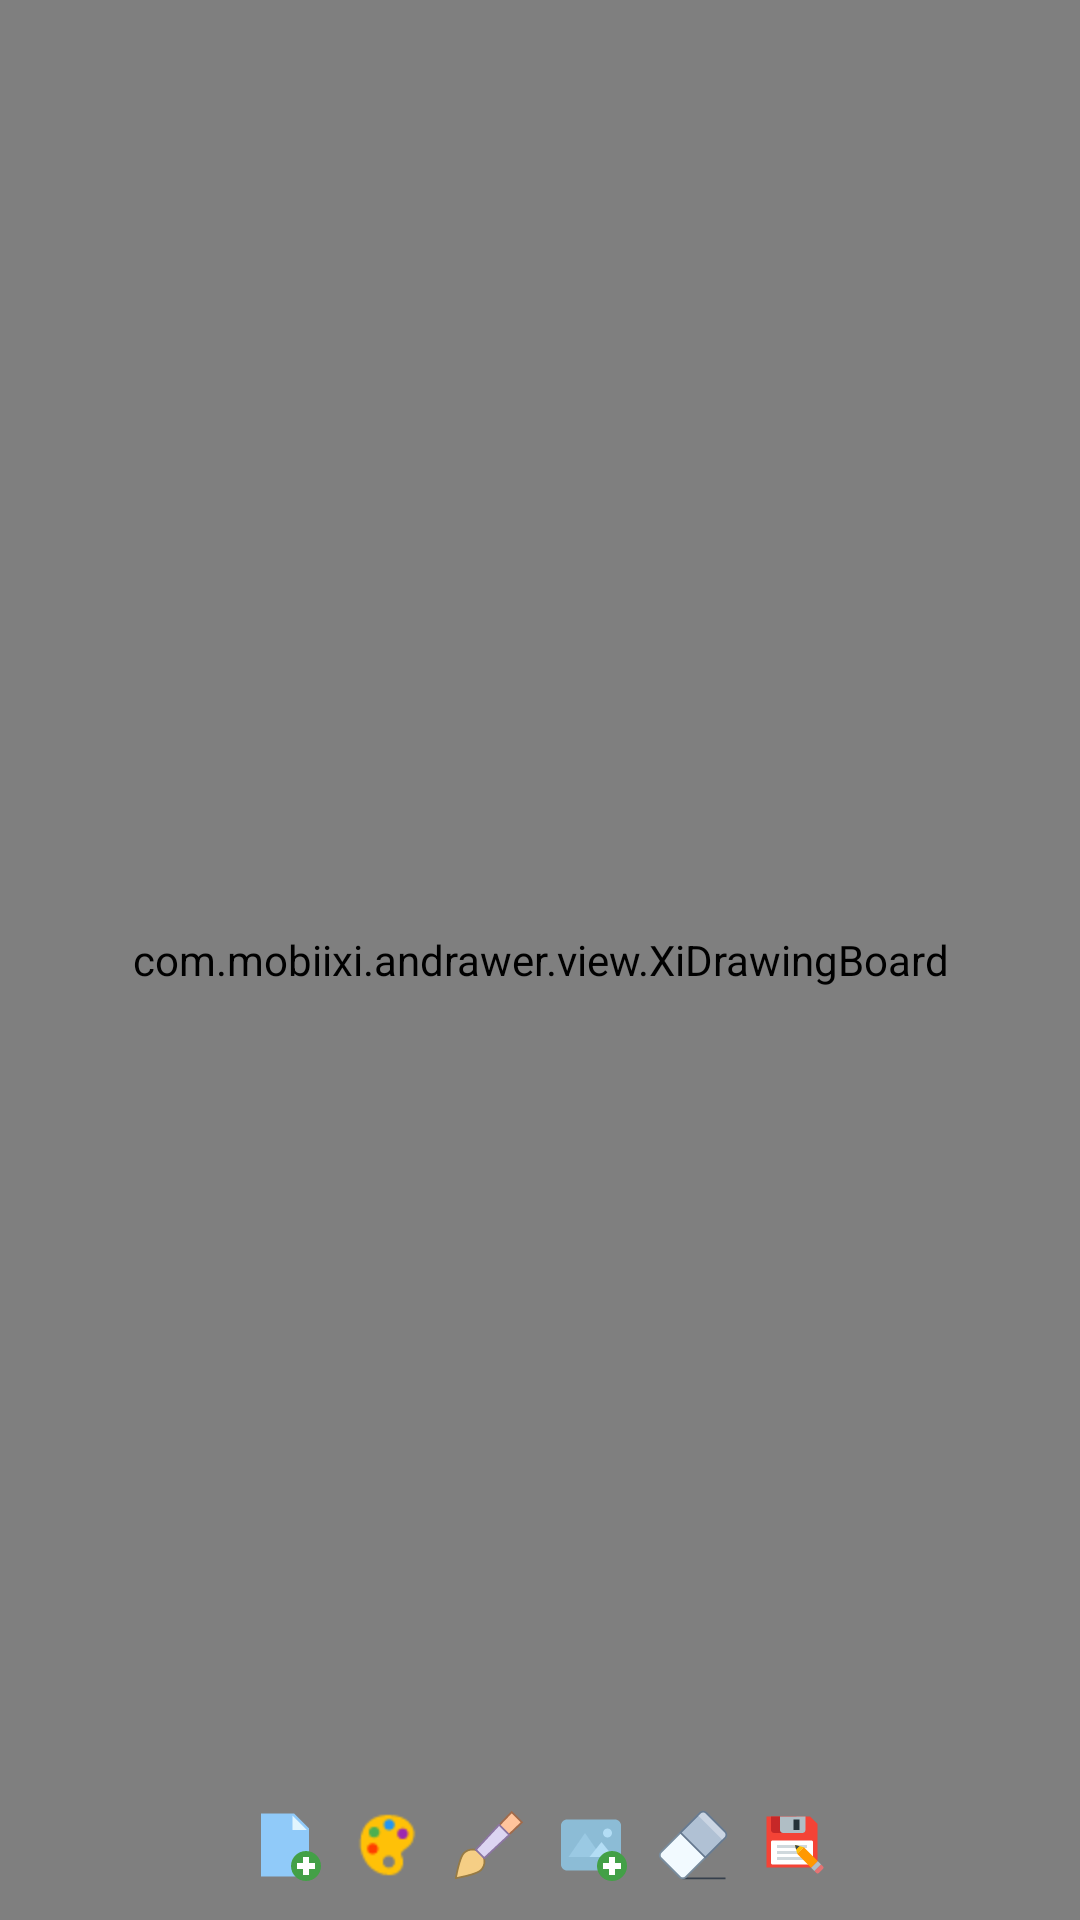

Locate icon controls on the screen. Image size 1080×1920, boxes as (x1, y1, x2, y2).
Brush: (455, 1811, 523, 1879)
Erase: (659, 1811, 727, 1879)
New: (261, 1813, 321, 1881)
Palette: (360, 1814, 415, 1876)
Save: (766, 1816, 824, 1874)
